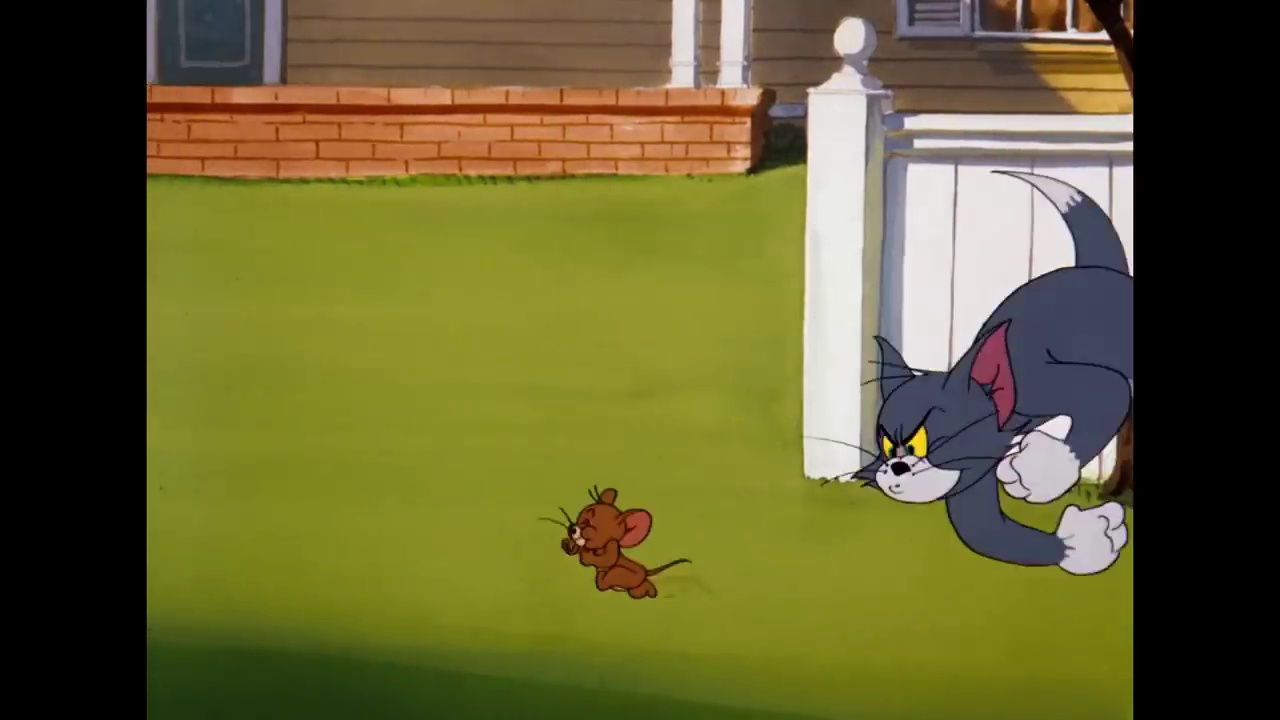tom: (851, 317, 1025, 510)
